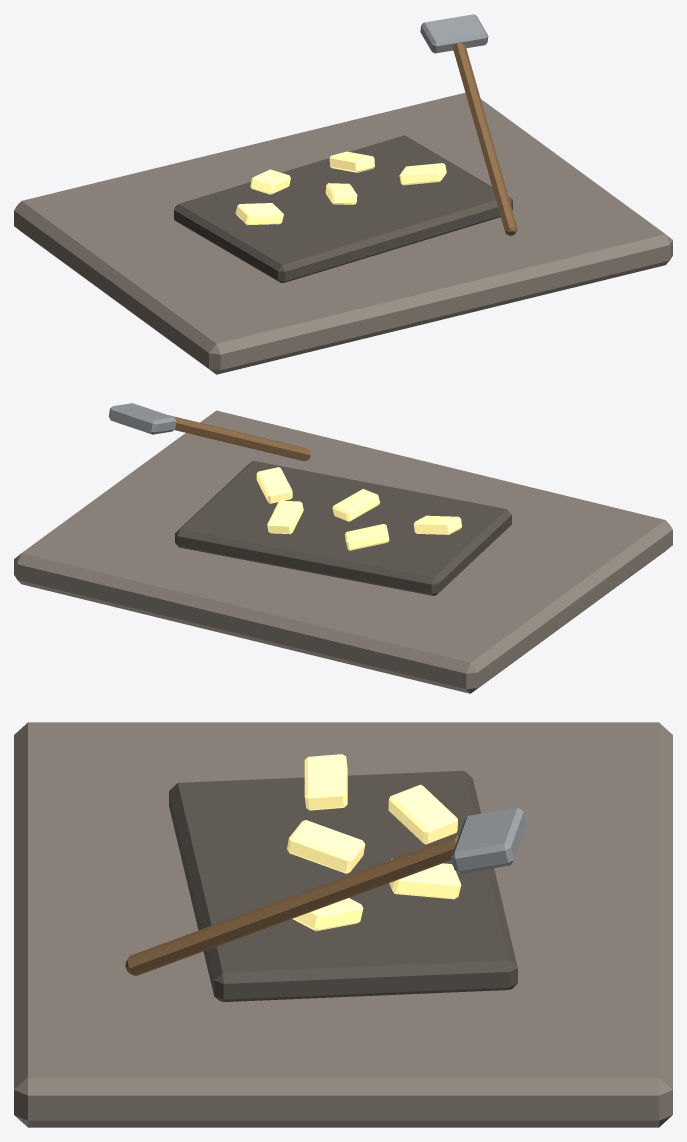
The model's file is harthmere_chapel_relic_dig.glb.
3 views of the same model, one above another, from view 1: azimuth 30°, elevation 25°; view 2: azimuth 150°, elevation 25°; view 3: azimuth 270°, elevation 25° (orthographic). The views are drawn at different scales.
Bounding box in the file's own units: 2.5 × 0.7924 × 1.9.
